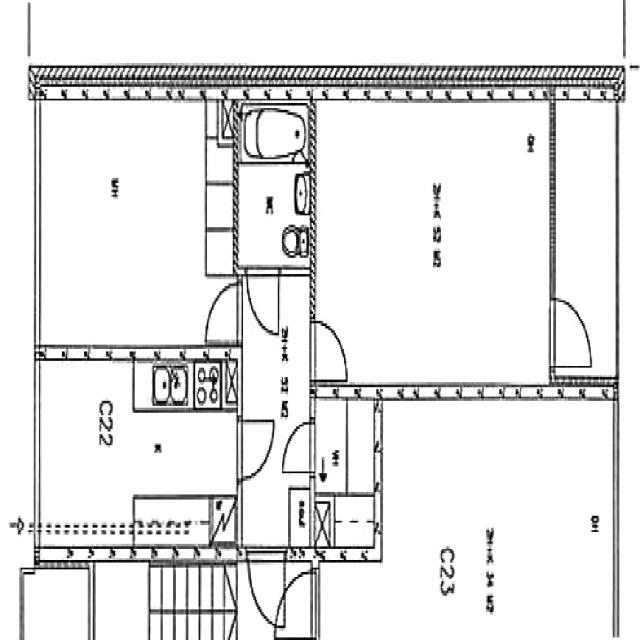door: (549, 289, 593, 370), (242, 263, 284, 342), (246, 546, 286, 628), (234, 412, 278, 485), (310, 312, 350, 389), (278, 555, 316, 636), (203, 276, 243, 348), (280, 412, 316, 482)
window: (46, 339, 94, 367)
zone: (314, 95, 554, 392), (36, 97, 231, 352), (35, 358, 239, 558), (551, 94, 617, 372), (312, 393, 382, 553), (236, 157, 313, 267), (90, 559, 171, 640), (21, 565, 92, 640), (238, 103, 310, 168)
